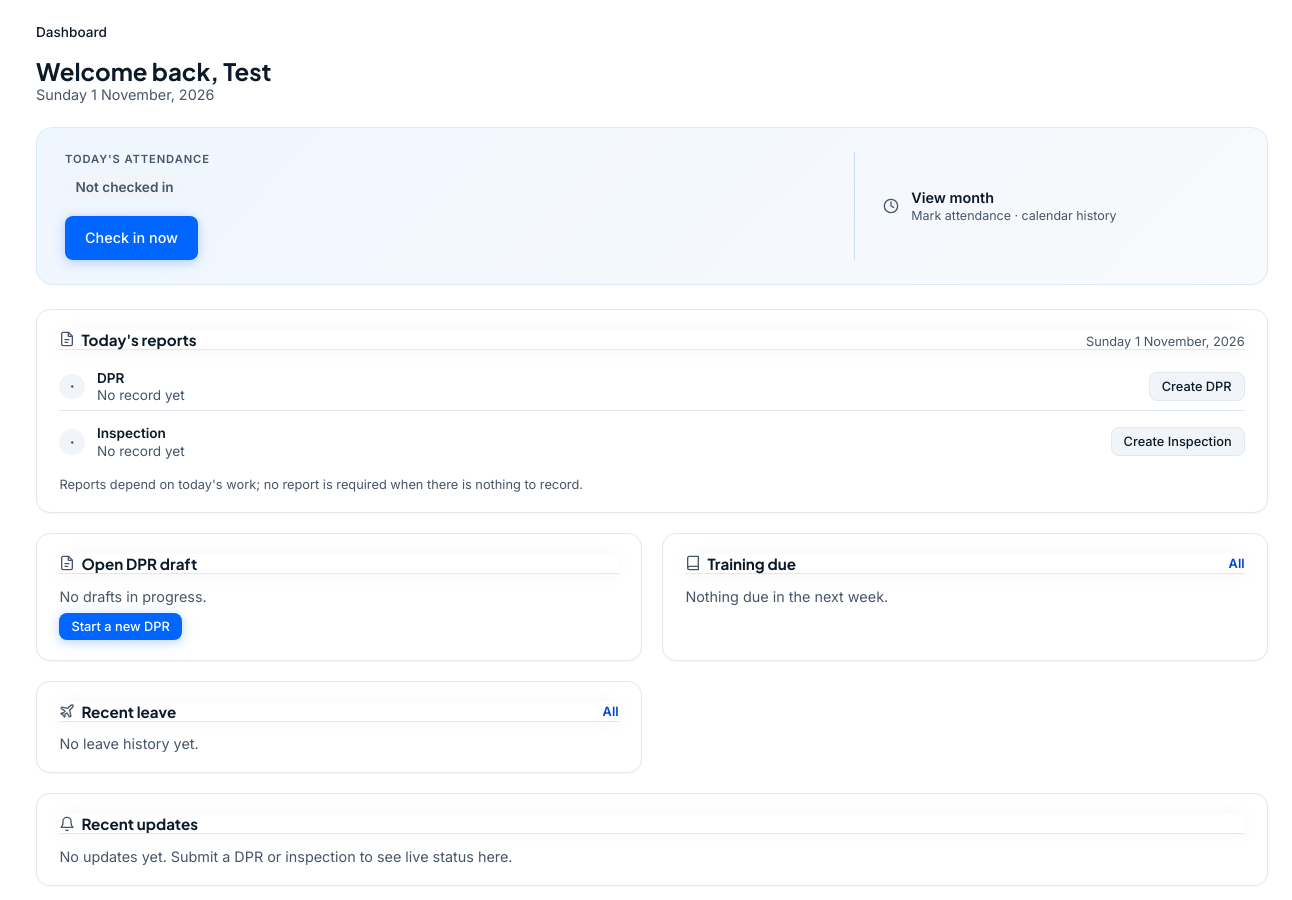
Test case: DR-023 — EmployeeDashboard real-mount coverage › 5. clicking "Check in now" navigates to /portal/attendance?action=check-in
Click the button "Check in now" at [132, 238], box [65,216,198,260]
(page scrolled)
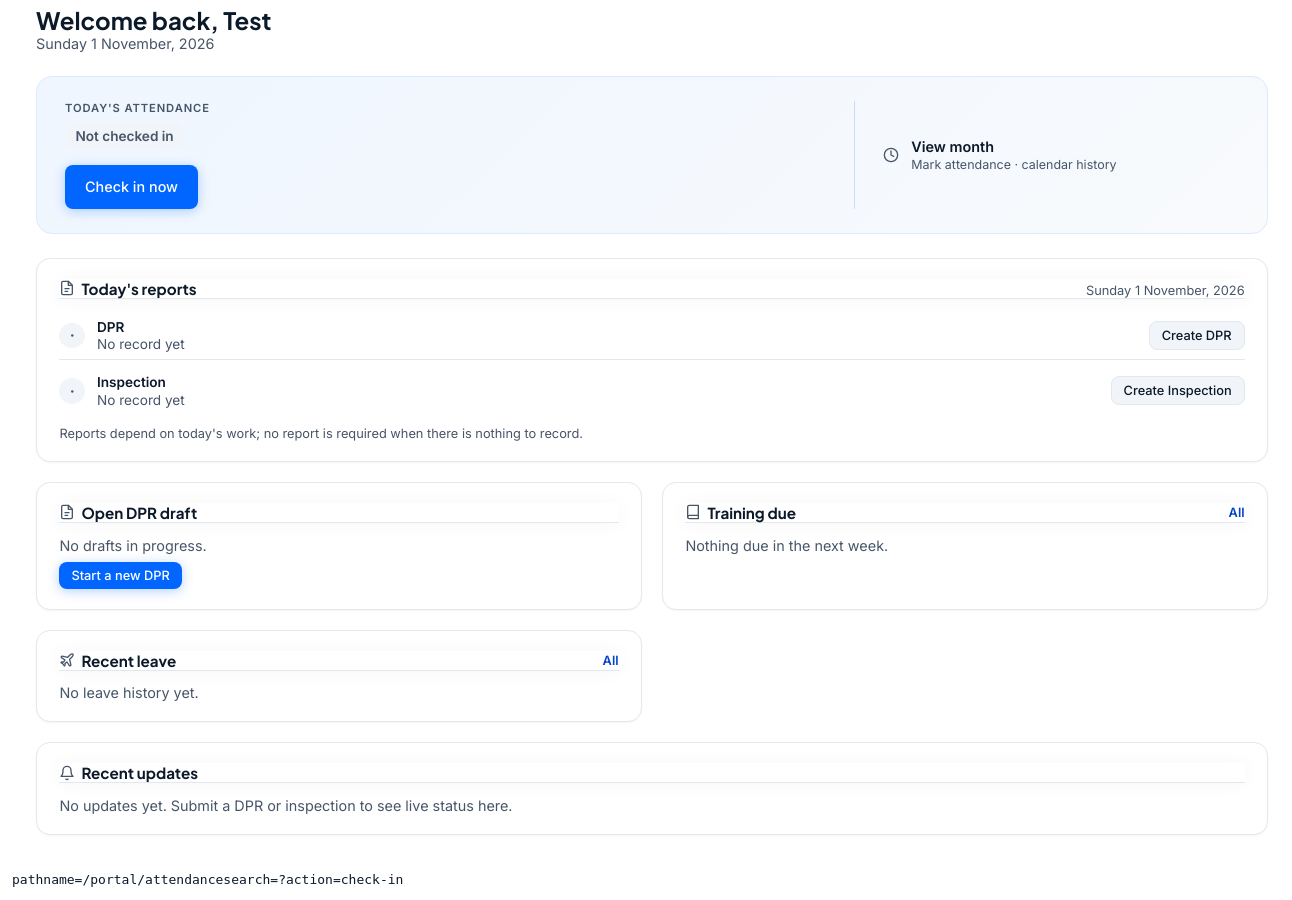
Expected: the text with test id "observed-location" shows "pathname=/portal/attendance", [12,872,403,887]
